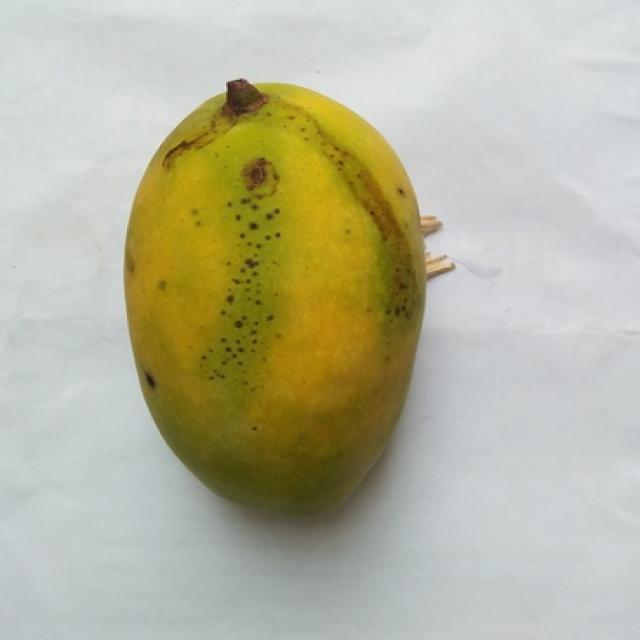Mango: (125, 83, 423, 513)
